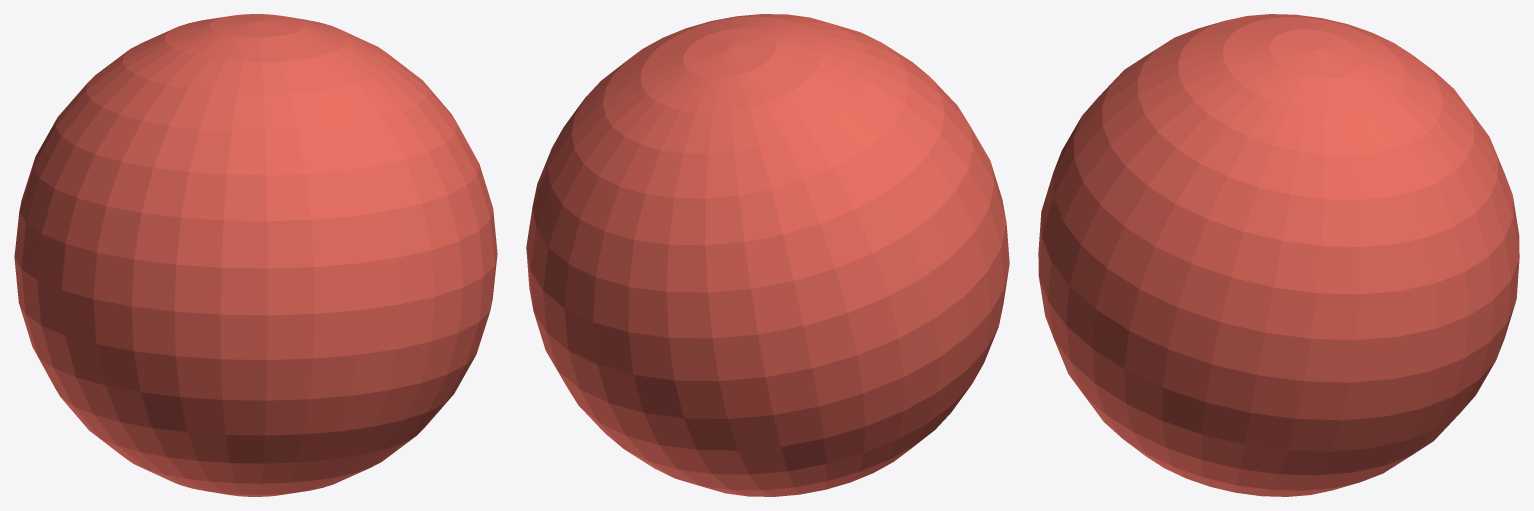
File: planetsfive.glb
The picture shows the model from 3 angles, left to right: view 1: azimuth 30°, elevation 25°; view 2: azimuth 150°, elevation 25°; view 3: azimuth 270°, elevation 25°; orthographic projection.
Parts seen in each view (by area): view 1: Sphere.005; view 2: Sphere.005; view 3: Sphere.005.
Boxes of the visible parts, x1,y1,x2,y2 form: Sphere.005: [14, 14, 497, 496]; Sphere.005: [526, 14, 1009, 496]; Sphere.005: [1038, 14, 1519, 496].
Size of what is drawn, in the model's own units: 0.4915 by 0.4951 by 0.4929.
